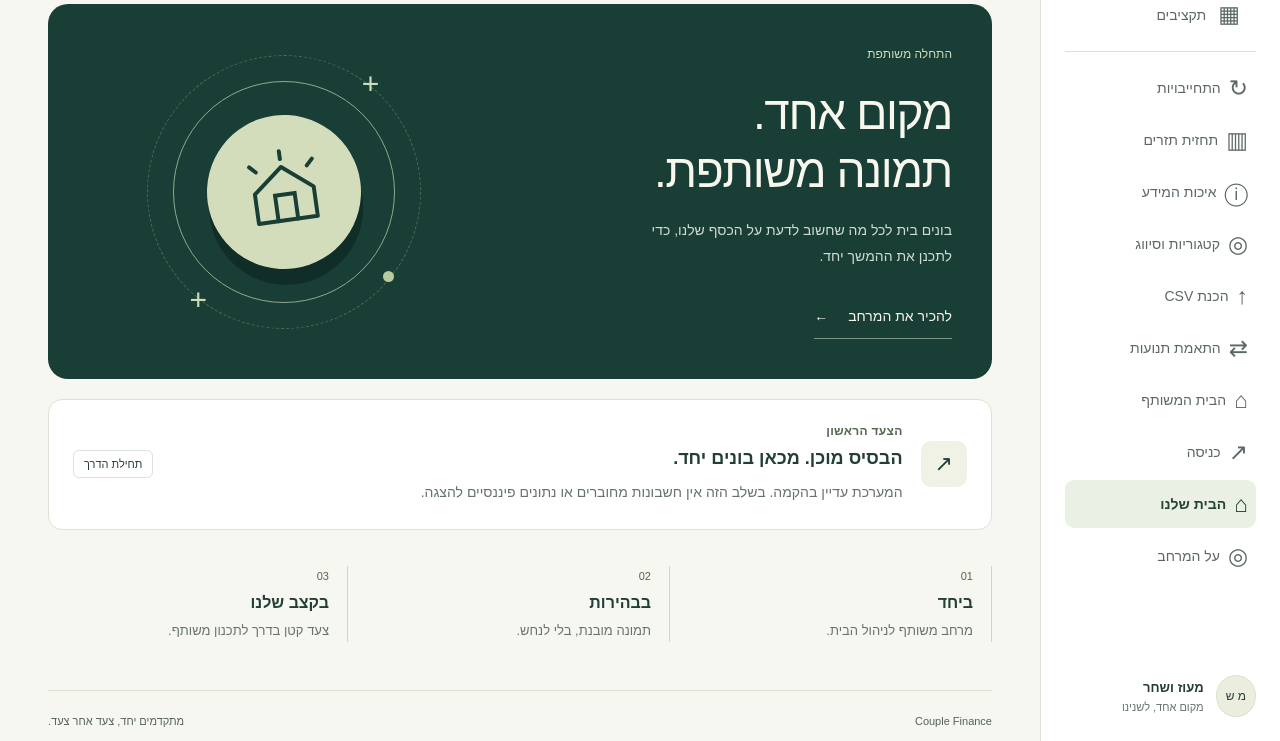
application shell › shows an honest foundation state and working navigation
(page scrolled)
Check: the text "אין חשבונות מחוברים" is shown, box x1=421 y1=484 x2=903 y2=500
Click the link "◎ על המרחב": (1203, 556) x1=1157 y1=542 x2=1248 y2=568
(page scrolled)
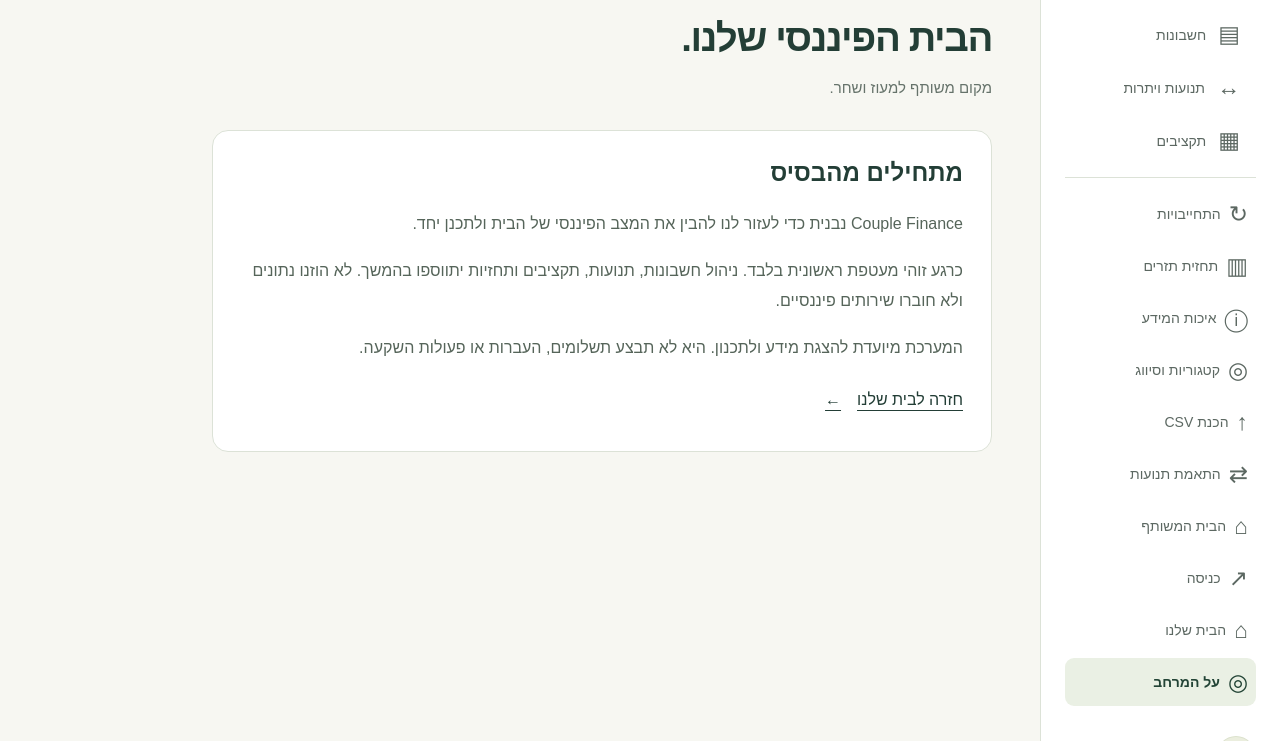
Check: the heading "הבית הפיננסי שלנו." is shown, box x1=681 y1=16 x2=992 y2=59
